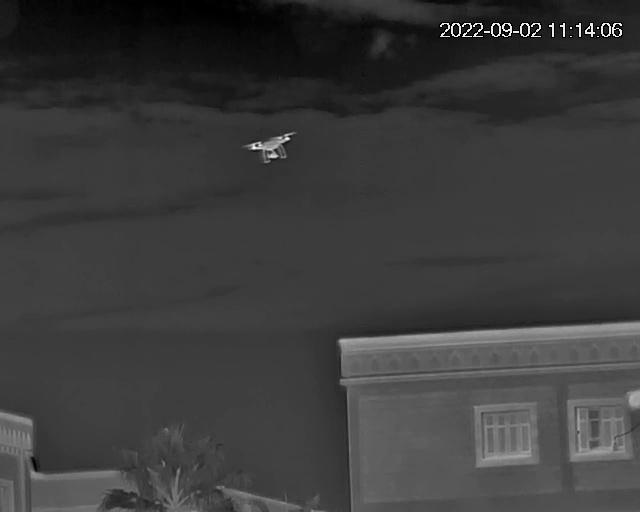DJI-Phantom: (240, 129, 299, 168)
